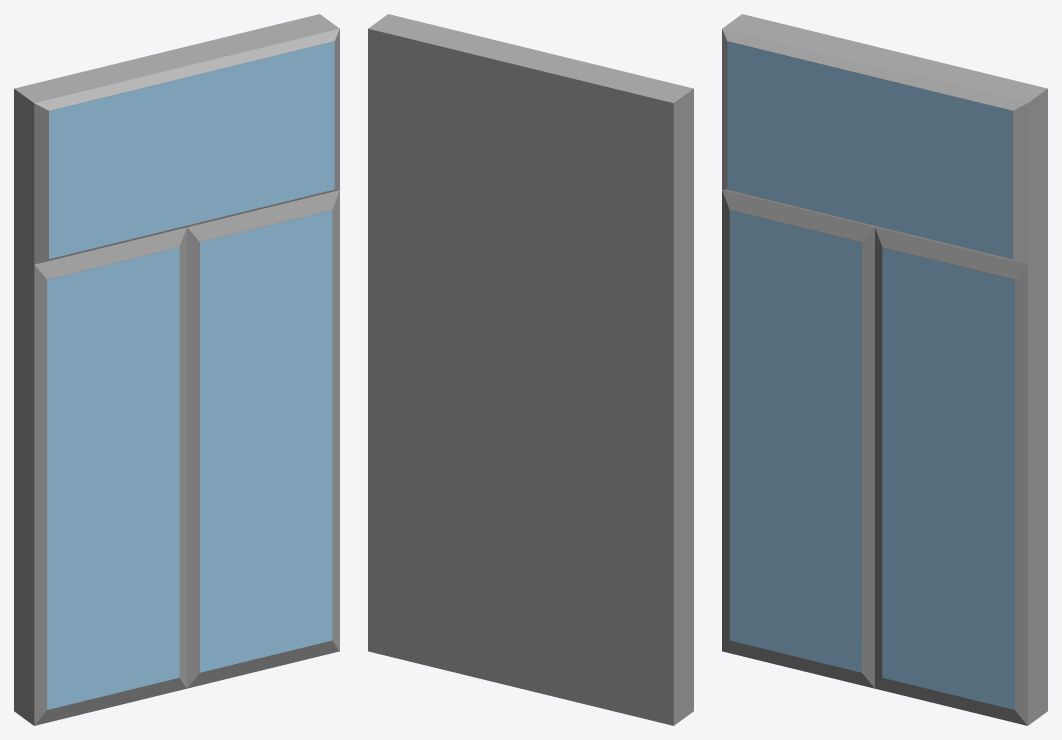
File: WindowFransiz.fbx
3 views of the same model, side by side, from view 1: azimuth 30°, elevation 25°; view 2: azimuth 150°, elevation 25°; view 3: azimuth 330°, elevation 25° (orthographic).
Parts seen in each view (by area): view 1: Cube; view 2: Cube; view 3: Cube.
Boxes of the visible parts, <box> form: Cube: <box>14,14,339,725</box>; Cube: <box>368,14,693,725</box>; Cube: <box>722,14,1047,725</box>.
Bounding box in the file's own units: 1.39 × 2.7 × 0.1959.
1 material, 1 textured.
